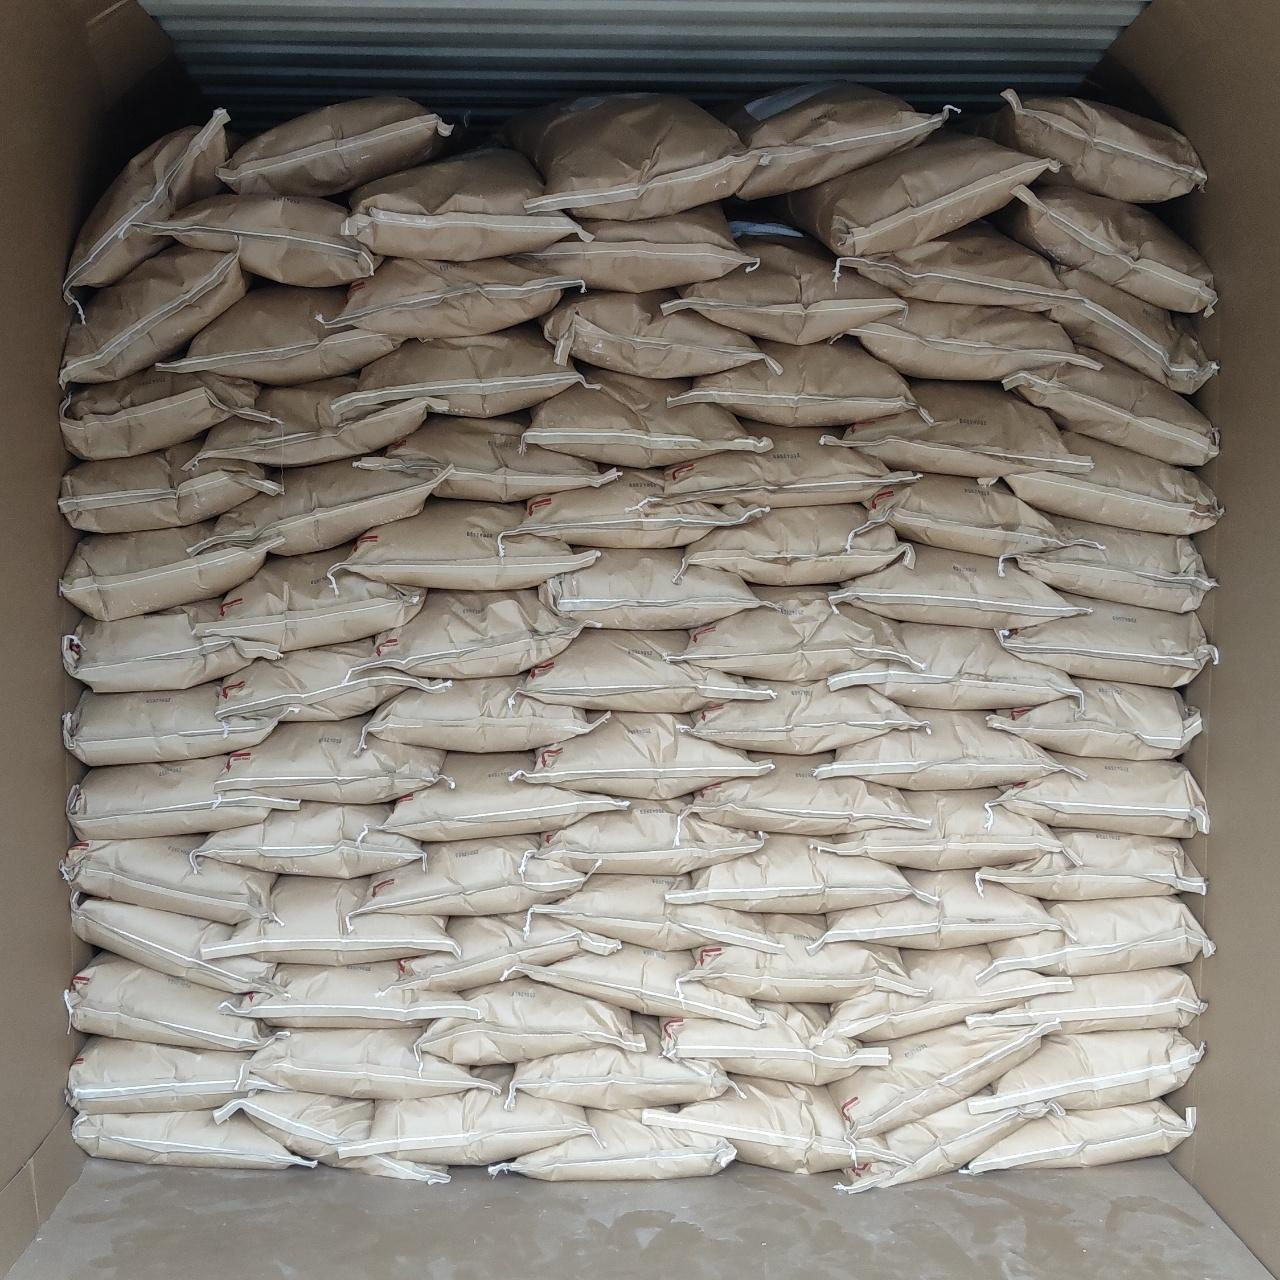sack: (784, 132, 1054, 254), (498, 94, 762, 216), (63, 109, 229, 299), (996, 186, 1214, 310), (346, 146, 578, 258), (641, 1075, 904, 1173), (724, 86, 954, 198), (664, 234, 902, 342), (62, 244, 248, 382), (970, 96, 1206, 200), (1004, 350, 1218, 462), (838, 380, 1086, 476), (158, 284, 400, 382), (816, 946, 1068, 1038), (834, 1026, 1048, 1134), (190, 376, 434, 470), (220, 96, 452, 194), (526, 370, 762, 466), (196, 460, 436, 554), (346, 500, 596, 590), (208, 546, 422, 650), (998, 434, 1220, 534), (144, 194, 380, 286), (360, 1070, 590, 1164), (356, 416, 612, 500), (830, 544, 1086, 628), (344, 324, 582, 414), (680, 586, 912, 678), (830, 622, 1074, 708), (214, 1092, 446, 1182), (382, 752, 624, 838), (1044, 268, 1214, 390), (672, 340, 924, 422), (664, 424, 914, 506), (838, 1096, 1056, 1190), (68, 954, 280, 1050), (526, 714, 768, 798), (512, 1016, 732, 1108), (808, 870, 1060, 950), (218, 876, 452, 962), (506, 946, 762, 1024), (524, 204, 754, 290), (1004, 518, 1214, 612), (74, 896, 284, 990), (840, 222, 1064, 310), (328, 258, 580, 336), (60, 442, 278, 532), (524, 630, 766, 710), (512, 470, 766, 546), (60, 368, 274, 458), (66, 600, 280, 690), (62, 522, 266, 616), (850, 300, 1088, 380), (62, 836, 278, 924), (998, 600, 1218, 686), (818, 708, 1054, 788), (68, 756, 298, 838), (352, 836, 586, 916), (544, 292, 766, 376), (688, 914, 910, 998), (816, 790, 1054, 868), (688, 754, 920, 834), (218, 716, 444, 798), (418, 980, 642, 1062), (662, 1002, 886, 1084), (376, 590, 582, 678), (668, 836, 910, 910), (220, 640, 448, 718), (366, 674, 600, 750), (682, 504, 910, 582), (534, 876, 772, 950), (992, 754, 1206, 836), (858, 474, 1070, 556), (248, 1028, 496, 1098), (488, 1110, 734, 1180), (962, 1100, 1194, 1174), (400, 912, 620, 990), (66, 682, 274, 764), (978, 1032, 1202, 1108), (990, 898, 1212, 974), (542, 550, 758, 628), (990, 678, 1200, 758), (536, 798, 762, 872), (682, 682, 924, 750), (194, 804, 420, 876), (222, 962, 476, 1026), (978, 828, 1204, 898), (68, 1036, 270, 1110), (966, 968, 1204, 1030), (74, 1110, 316, 1166)
